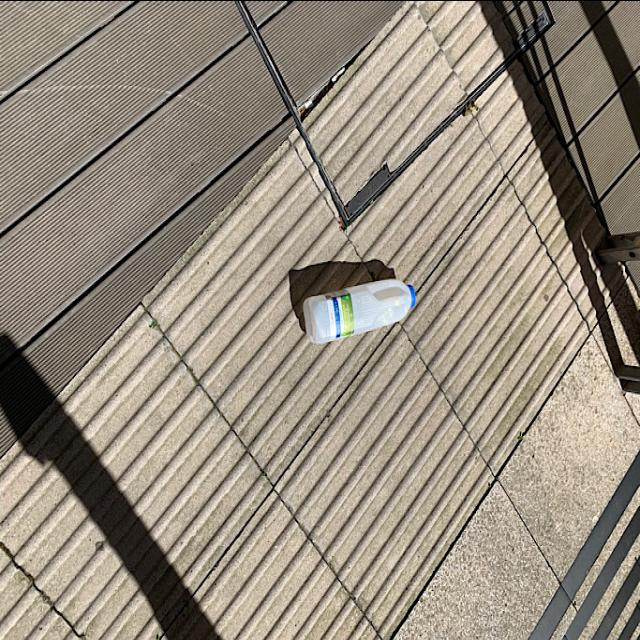litter: (300, 273, 418, 345)
